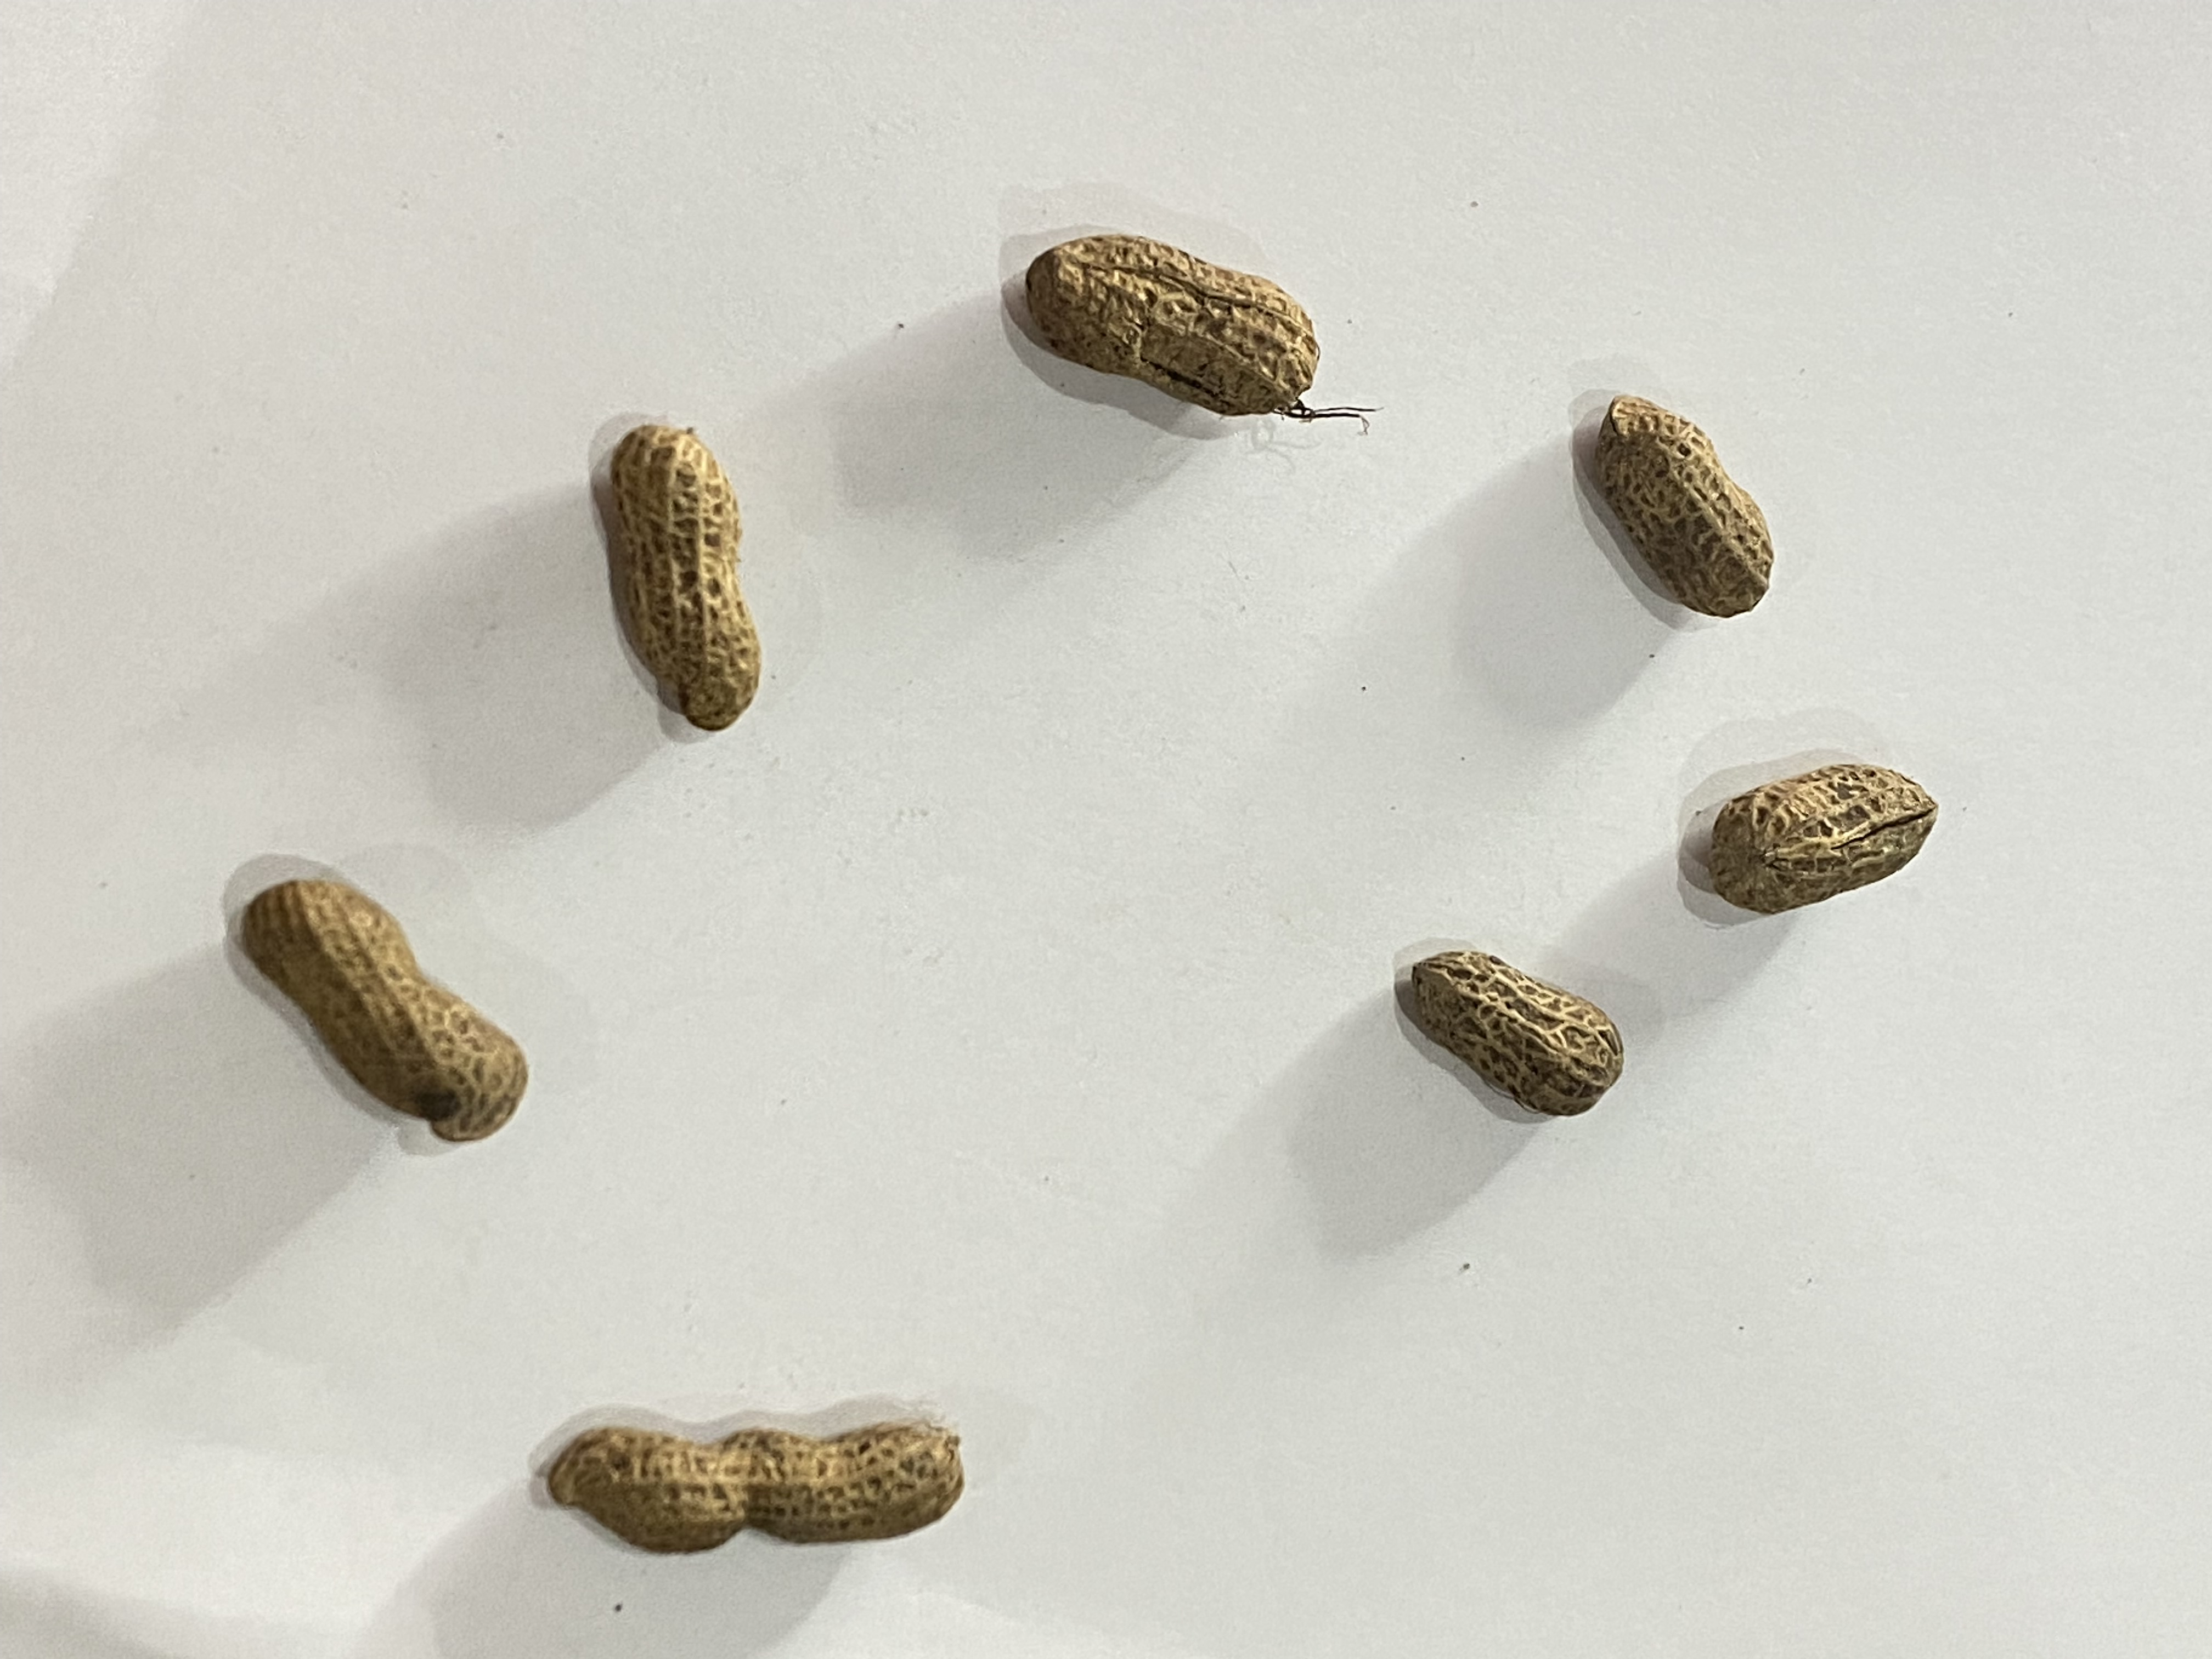kacang1: (1689, 748, 1965, 918)
kacang2: (211, 880, 566, 1157), (1010, 173, 1325, 434), (585, 380, 799, 753), (1543, 378, 1796, 640), (1400, 932, 1634, 1121)
kacang3: (512, 1387, 1031, 1586)
